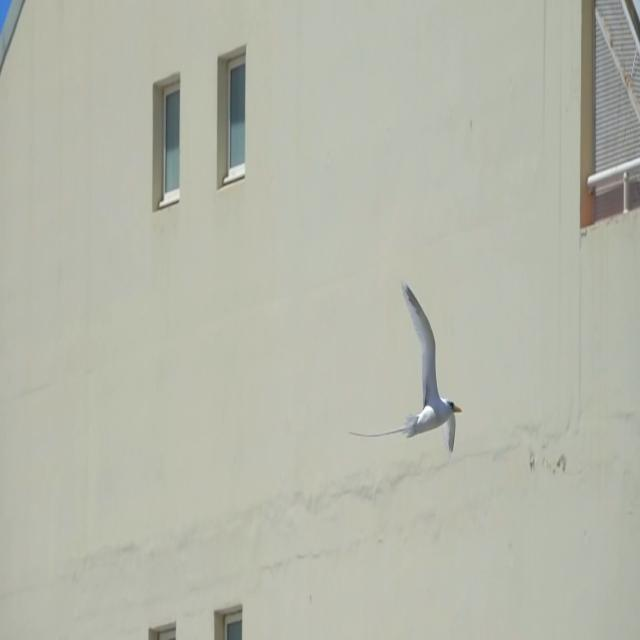bird: (396, 275, 463, 470)
